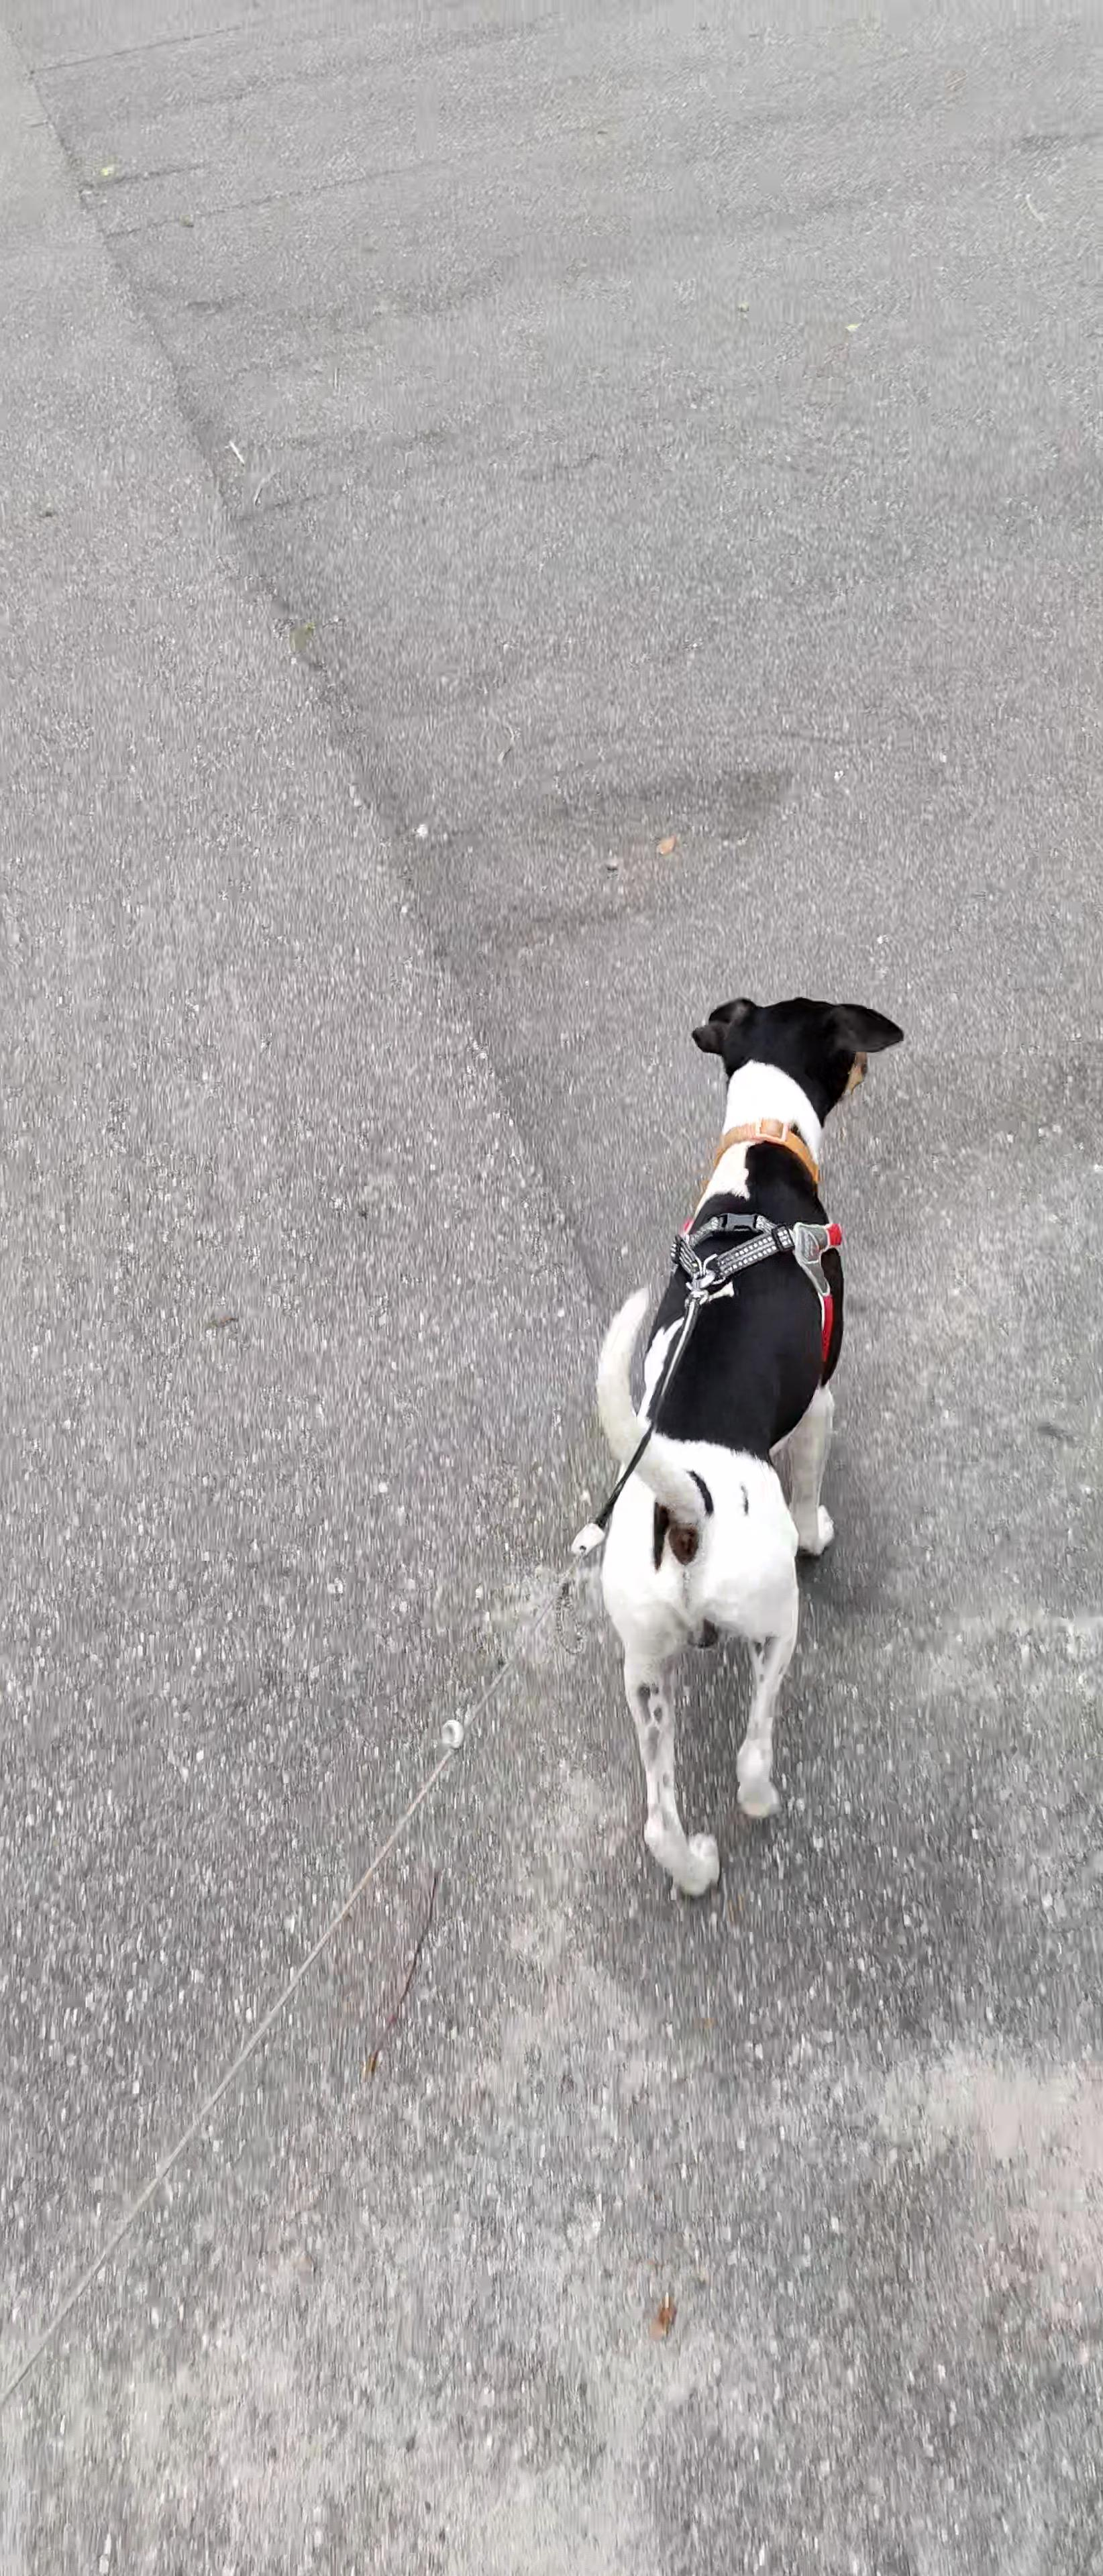Dog: (579, 991, 909, 1899)
